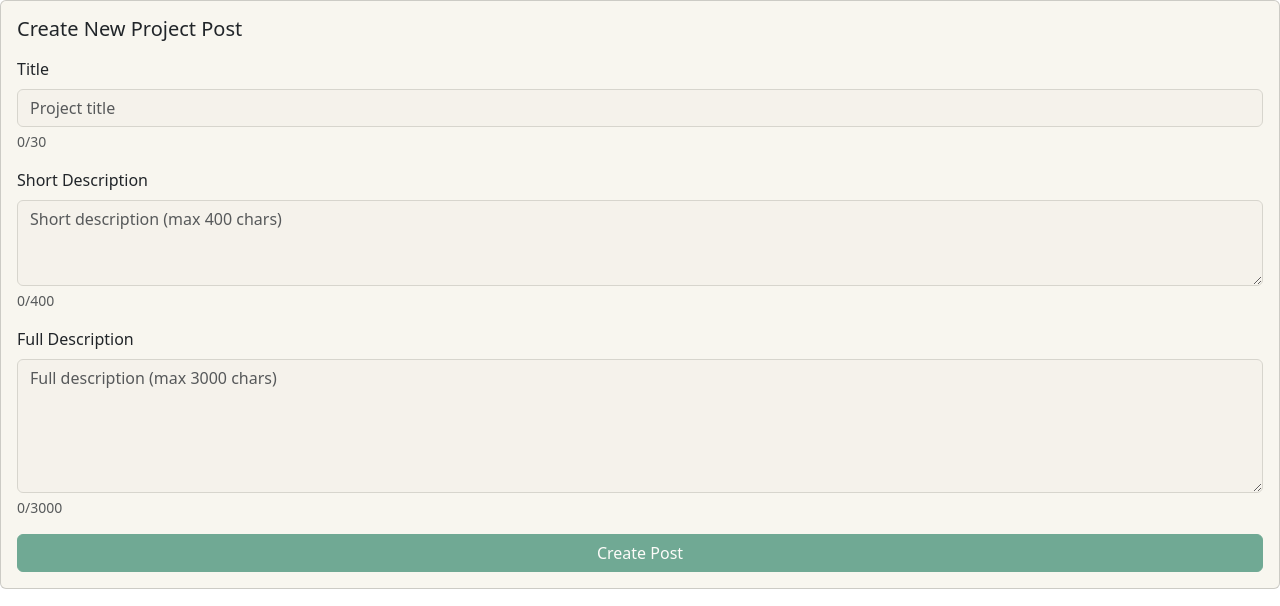
Test: CreatePost › shortDesc character counter updates as user types
The width and height of the screenshot is (1280, 606).
In the text box with placeholder "Short description (max 400 chars)": (640, 243) top-left (17, 200), bottom-right (1263, 286), type "Hi"
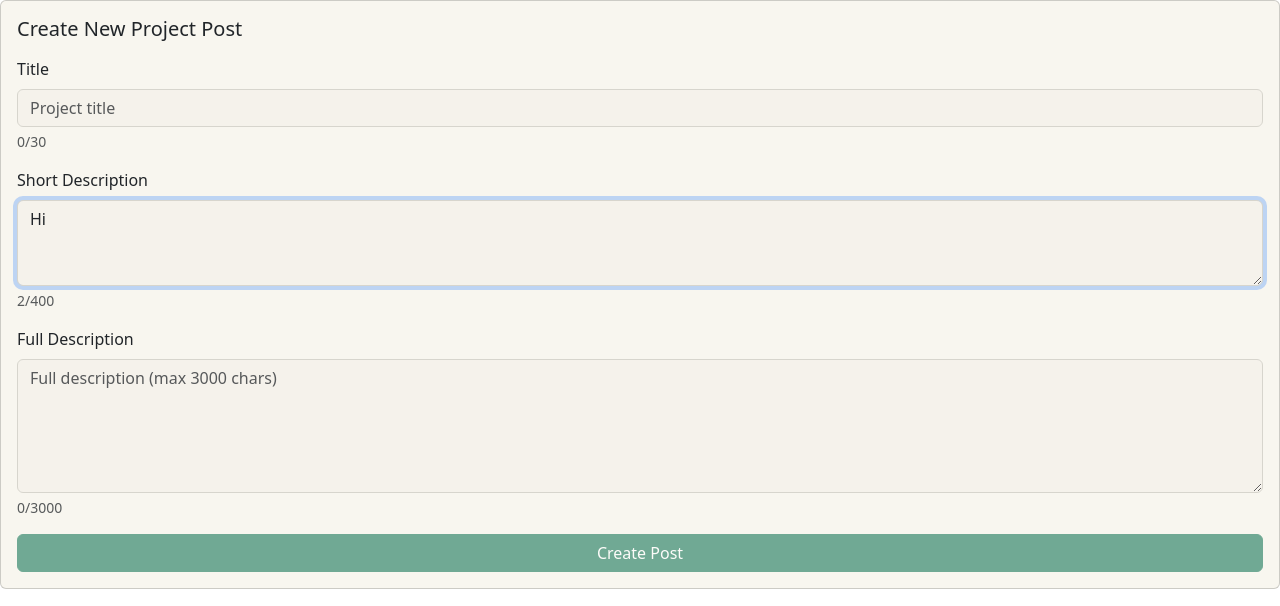
Check: the text "2/400" is shown, box top-left (17, 291), bottom-right (54, 310)
